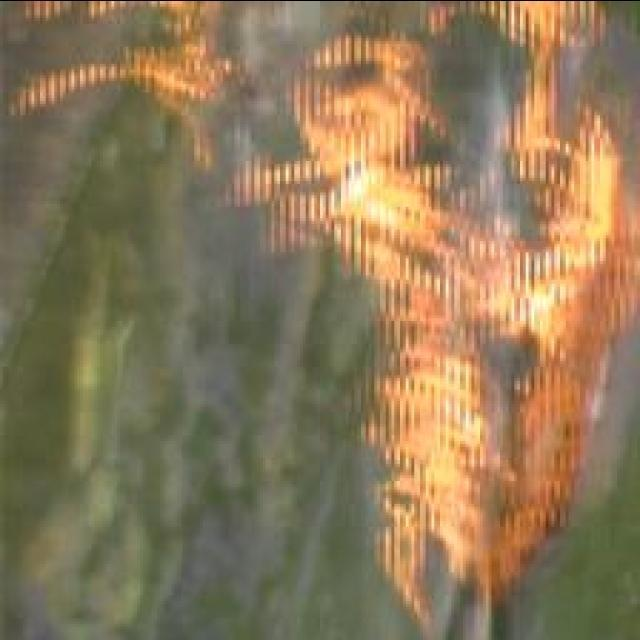Fire: (228, 0, 617, 635), (12, 0, 232, 163)
